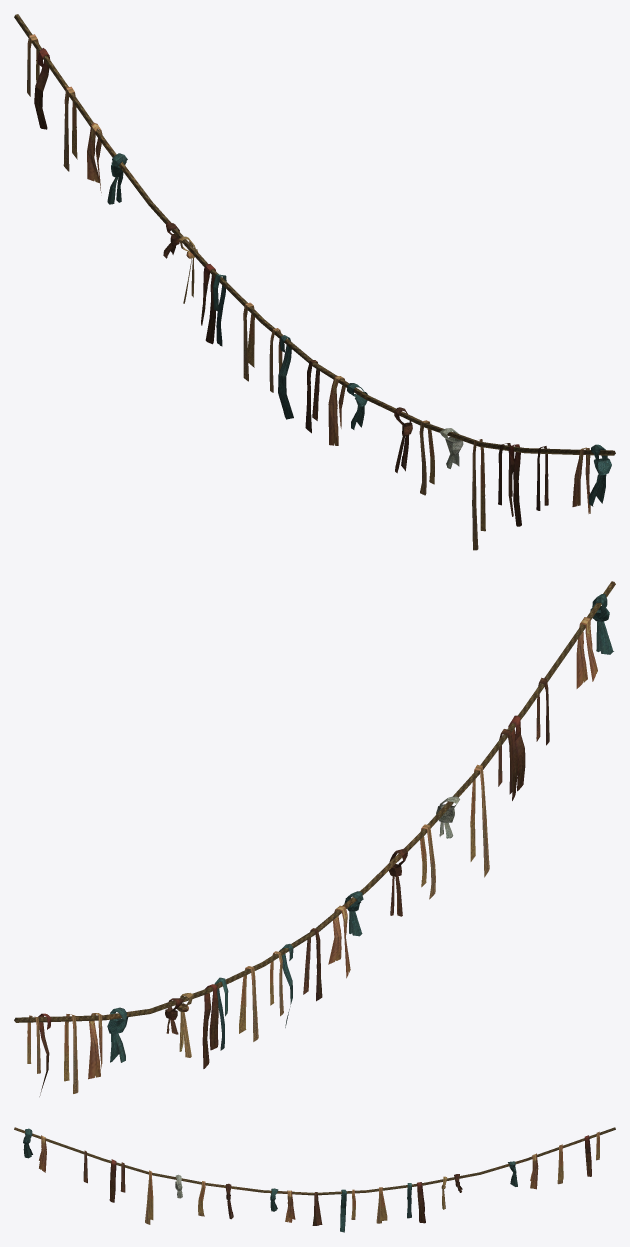
Rendered from bg_anh_mirrorv_febricrope01_sm_phs.FBX.
3 views of the same model, one above another, from view 1: azimuth 30°, elevation 25°; view 2: azimuth 150°, elevation 25°; view 3: azimuth 270°, elevation 25° (orthographic). The views are drawn at different scales.
Parts seen in each view (by area): view 1: bg_anh_mirrorv_febricrope01_sm_phs; view 2: bg_anh_mirrorv_febricrope01_sm_phs; view 3: bg_anh_mirrorv_febricrope01_sm_phs.
Boxes of the visible parts, x1,y1,x2,y2 form: bg_anh_mirrorv_febricrope01_sm_phs: (14, 14, 615, 550); bg_anh_mirrorv_febricrope01_sm_phs: (14, 581, 615, 1096); bg_anh_mirrorv_febricrope01_sm_phs: (14, 1127, 615, 1232).
Size of the model in its own units: 17.52 by 148 by 770.
